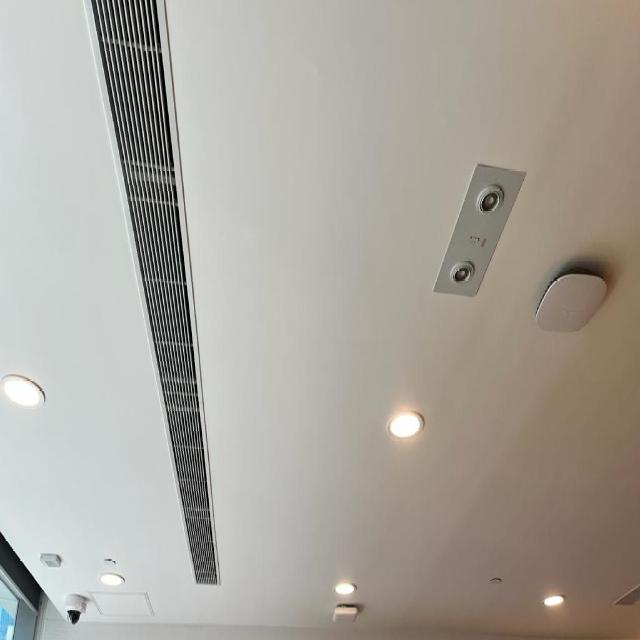Light-Opened: (0, 370, 48, 416), (382, 406, 426, 442), (331, 573, 360, 602), (97, 568, 127, 596), (542, 590, 567, 615)
